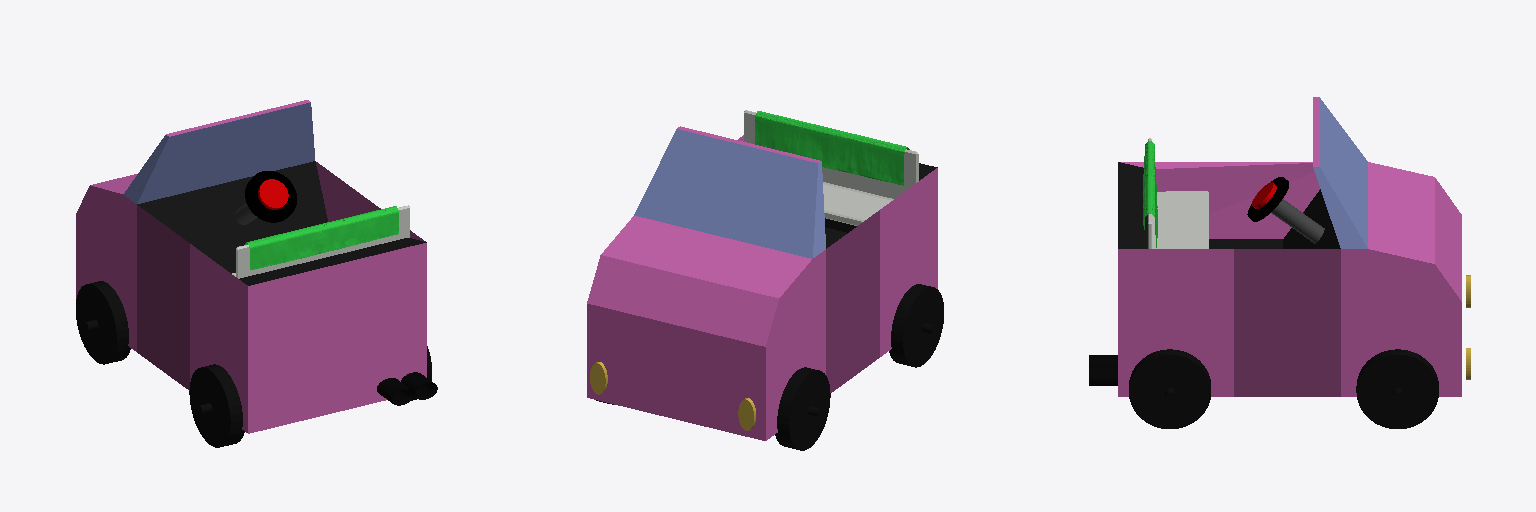
The model's file is carro.obj.
3 views of the same model, side by side, from view 1: azimuth 30°, elevation 25°; view 2: azimuth 150°, elevation 25°; view 3: azimuth 270°, elevation 25° (orthographic).
Parts seen in each view (by area): view 1: Cube, Cylinder.003, Plane, Cylinder.001_Cylinder.009, Cube.001, Cylinder_Cylinder.004; view 2: Cube, Cylinder.003, Plane, Cube.001, Cylinder.002_Cylinder.008; view 3: Cube, Cylinder.003, Cube.001, Cylinder.001_Cylinder.009, Plane, Cylinder_Cylinder.004.
Part boxes in pixels (x1,y1,x2,y2): Cube: (76,100,426,433); Cylinder.003: (76,281,431,447); Plane: (245,206,398,269); Cylinder.001_Cylinder.009: (235,171,296,224); Cube.001: (232,205,409,278); Cylinder_Cylinder.004: (377,372,437,405); Cube: (587,126,937,440); Cylinder.003: (596,284,943,450); Plane: (755,111,909,185); Cube.001: (744,110,918,225); Cylinder.002_Cylinder.008: (590,362,755,430); Cube: (1118,97,1461,396); Cylinder.003: (1129,349,1438,428); Cube.001: (1148,138,1208,248); Cylinder.001_Cylinder.009: (1247,177,1324,243); Plane: (1143,141,1157,247); Cylinder_Cylinder.004: (1089,355,1117,385).
Size of the model in its own units: 3.14 by 3.36 by 4.67.